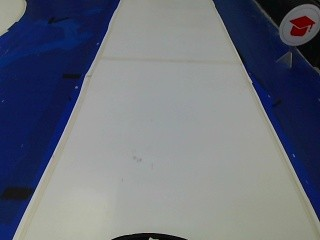school: (278, 3, 318, 51)
